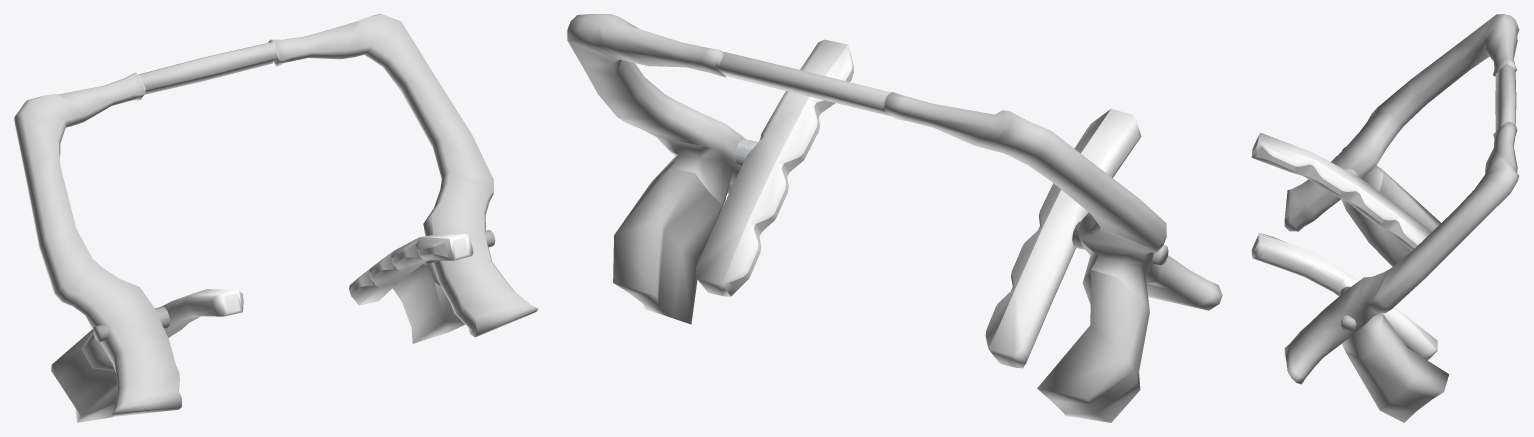
The model's file is Freio traseiro.glb.
3 views of the same model, side by side, from view 1: azimuth 30°, elevation 25°; view 2: azimuth 150°, elevation 25°; view 3: azimuth 270°, elevation 25° (orthographic). The views are drawn at different scales.
Visible parts, largest first — view 1: Freio traseiro; view 2: Freio traseiro; view 3: Freio traseiro.
Part boxes in pixels (x1,y1,x2,y2): Freio traseiro: (14, 14, 538, 422); Freio traseiro: (567, 14, 1222, 422); Freio traseiro: (1251, 14, 1519, 422).
Bounding box in the file's own units: 0.1529 × 0.0959 × 0.091.
3 materials, 1 textured.
